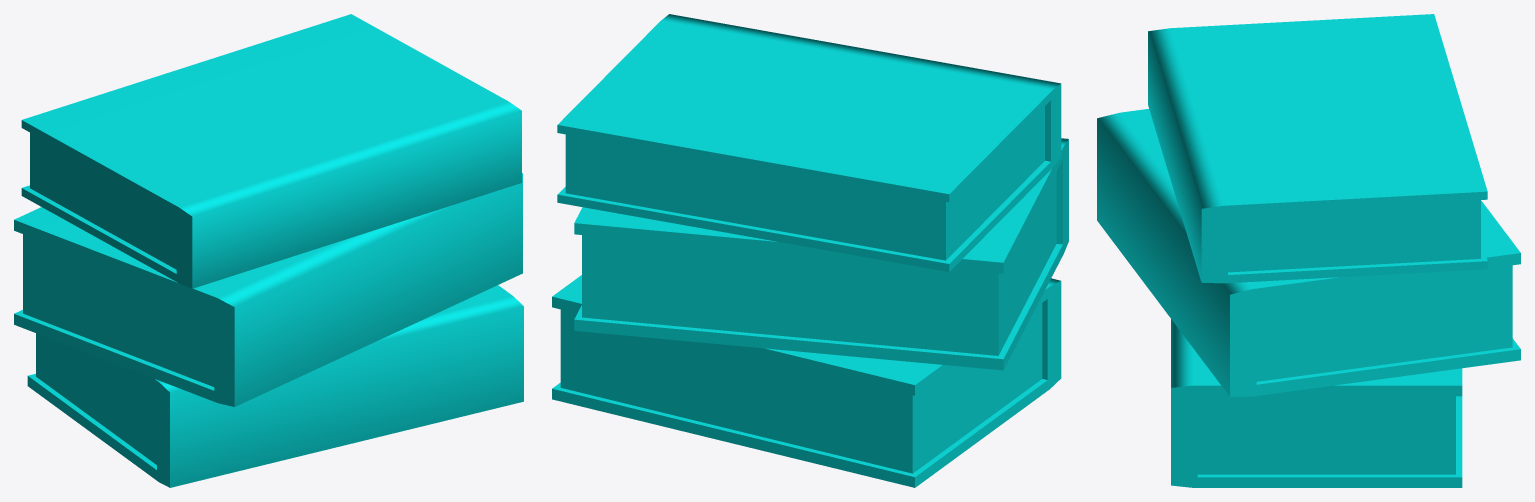
The model's file is BookStack_Small.fbx.
3 renders of one model, left to right at view 1: azimuth 30°, elevation 25°; view 2: azimuth 150°, elevation 25°; view 3: azimuth 270°, elevation 25°, orthographic. The views are drawn at different scales.
Parts seen in each view (by area): view 1: BookStack_01; view 2: BookStack_01; view 3: BookStack_01.
Boxes of the visible parts, box(x1,y1,x2,y2) form: BookStack_01: box(14, 14, 523, 487); BookStack_01: box(552, 14, 1068, 487); BookStack_01: box(1097, 14, 1520, 487).
Size of the model in its own units: 9.41 by 5.85 by 7.82.
